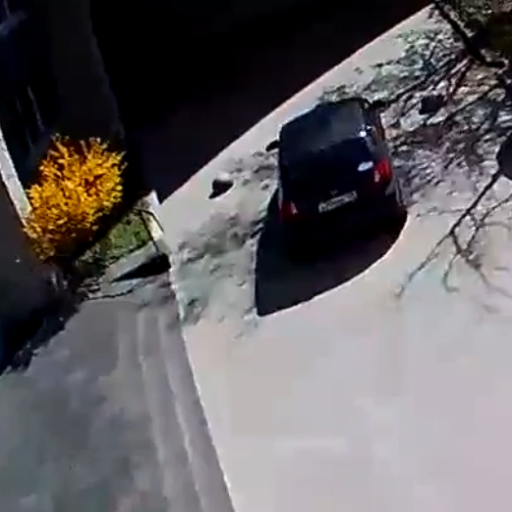Car: (276, 95, 403, 221)
